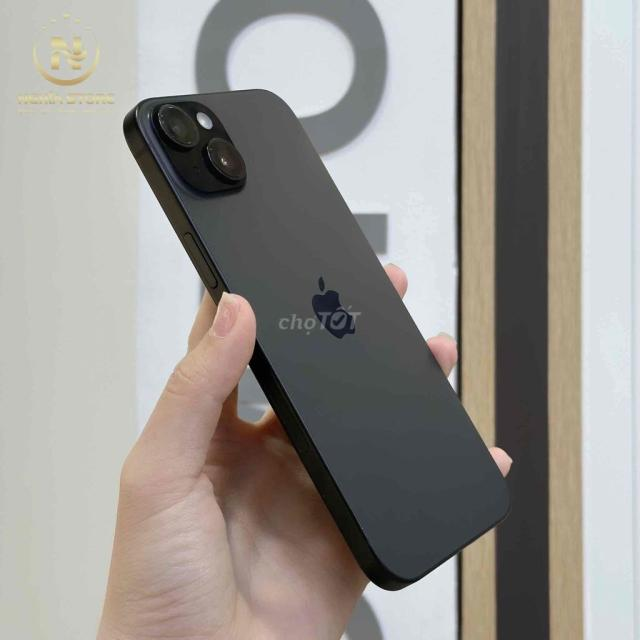gen_15: (113, 84, 523, 586)
